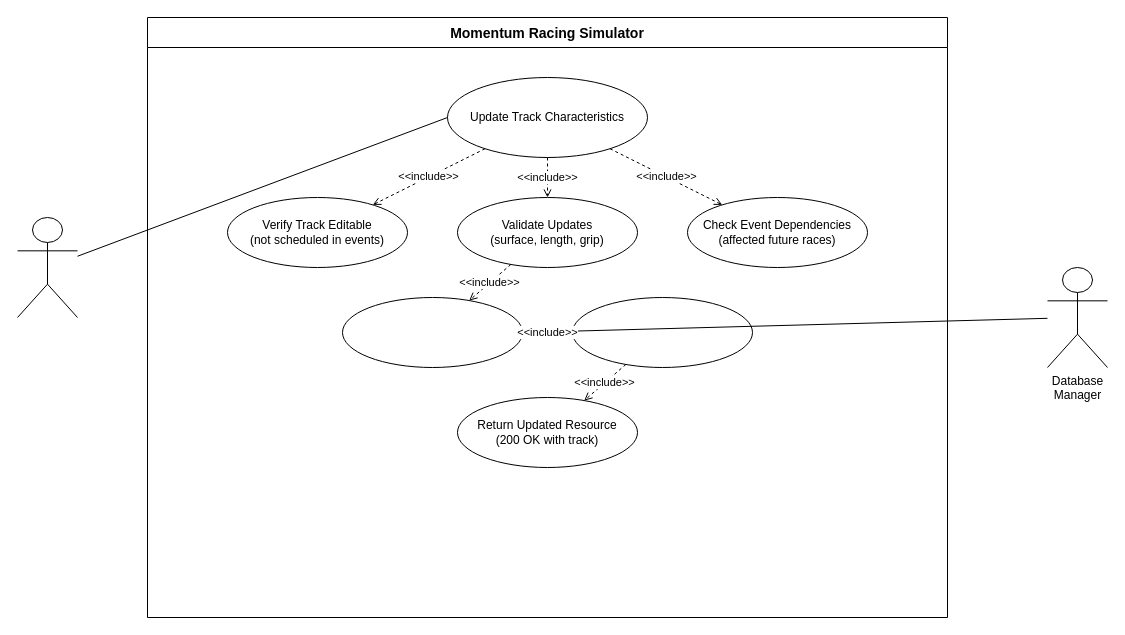
The diagram is 1125 pixels wide and 635 high, and some of its shapes have lost their labels. The centre of each missing label's shape, as x and y in pixels:
Admin: point (47, 267)
Persist with Transaction (atomic commit): point (662, 332)
Update Track Metadata (tracks table): point (432, 332)
